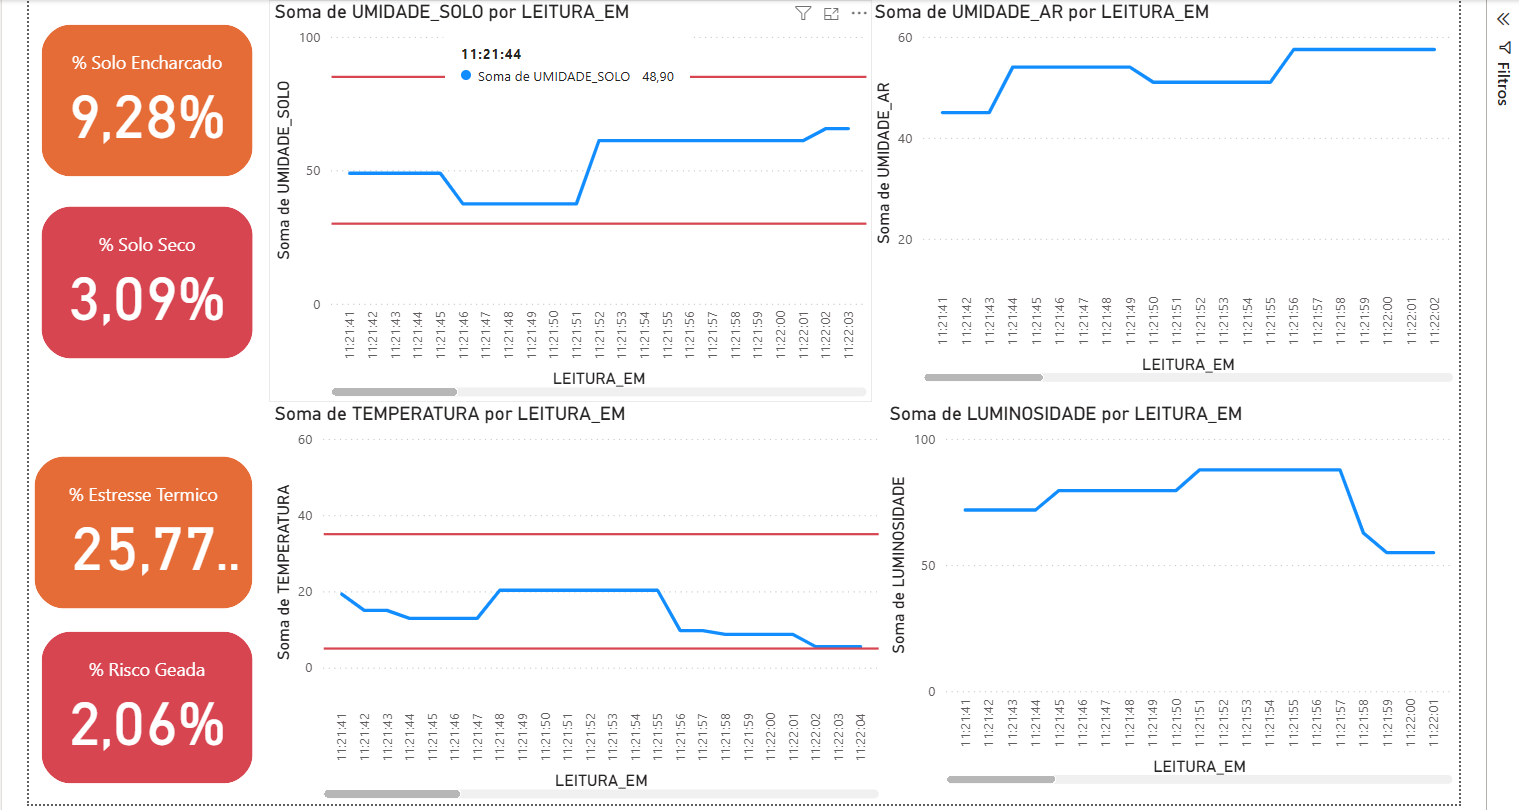

This screenshot's page, from the dashboard's own definition file:
{"tool":"powerbi","page":{"name":"Página 1","canvas":[1280,720],"ordinal":0},"visuals":[{"type":"lineChart","fields":{"Y":["Sum(FCT_LEITURAS.TEMPERATURA)"],"Category":["FCT_LEITURAS.LEITURA_EM"]},"box":[215,360,551,360],"z":0},{"type":"lineChart","fields":{"Y":["Sum(FCT_LEITURAS.UMIDADE_AR)"],"Category":["FCT_LEITURAS.LEITURA_EM"]},"box":[752,0,528,347],"z":1000},{"type":"lineChart","fields":{"Y":["Sum(FCT_LEITURAS.UMIDADE_SOLO)"],"Category":["FCT_LEITURAS.LEITURA_EM"]},"box":[215,0,540,360],"z":2000},{"type":"lineChart","fields":{"Category":["FCT_LEITURAS.LEITURA_EM"],"Y":["Sum(FCT_LEITURAS.LUMINOSIDADE)"]},"box":[766,360,514,347],"z":3000},{"type":"cardVisual","fields":{"Data":["FCT_ALERTAS.% Risco Geada"]},"box":[6,561,199,146],"z":4000},{"type":"cardVisual","fields":{"Data":["FCT_ALERTAS.% Estresse Termico"]},"box":[0,404,205,146],"z":5000},{"type":"cardVisual","fields":{"Data":["FCT_ALERTAS.% Solo Seco"]},"box":[6,180,199,146],"z":6000},{"type":"cardVisual","fields":{"Data":["FCT_ALERTAS.% Solo Encharcado"]},"box":[6,17,199,146],"z":7000}]}

Visuals, with their boxes in screenshot pixels (x1, y1, x2, y2):
lineChart - Sum(FCT_LEITURAS.TEMPERATURA) x FCT_LEITURAS.LEITURA_EM: {"left": 278, "top": 412, "right": 890, "bottom": 809}
lineChart - Sum(FCT_LEITURAS.UMIDADE_AR) x FCT_LEITURAS.LEITURA_EM: {"left": 875, "top": 12, "right": 1461, "bottom": 397}
lineChart - Sum(FCT_LEITURAS.UMIDADE_SOLO) x FCT_LEITURAS.LEITURA_EM: {"left": 278, "top": 12, "right": 878, "bottom": 412}
lineChart - FCT_LEITURAS.LEITURA_EM x Sum(FCT_LEITURAS.LUMINOSIDADE): {"left": 890, "top": 412, "right": 1461, "bottom": 797}
cardVisual - FCT_ALERTAS.% Risco Geada: {"left": 46, "top": 635, "right": 267, "bottom": 797}
cardVisual - FCT_ALERTAS.% Estresse Termico: {"left": 40, "top": 461, "right": 267, "bottom": 623}
cardVisual - FCT_ALERTAS.% Solo Seco: {"left": 46, "top": 212, "right": 267, "bottom": 374}
cardVisual - FCT_ALERTAS.% Solo Encharcado: {"left": 46, "top": 31, "right": 267, "bottom": 193}
